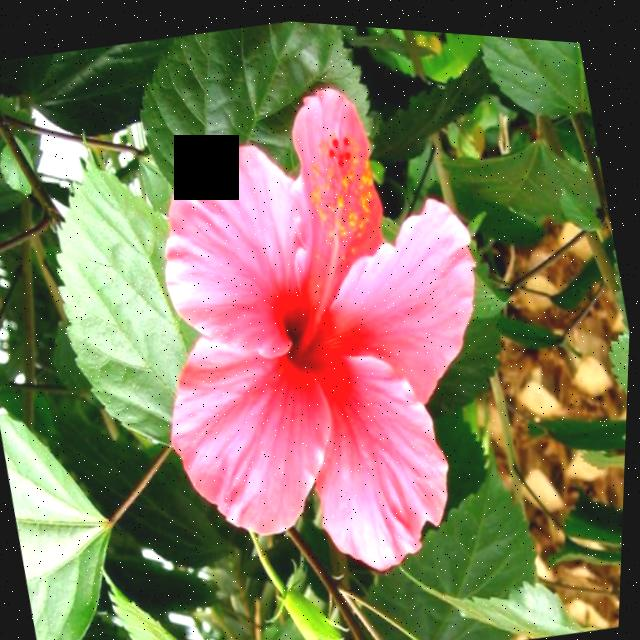hibiscus: (67, 13, 560, 620)
